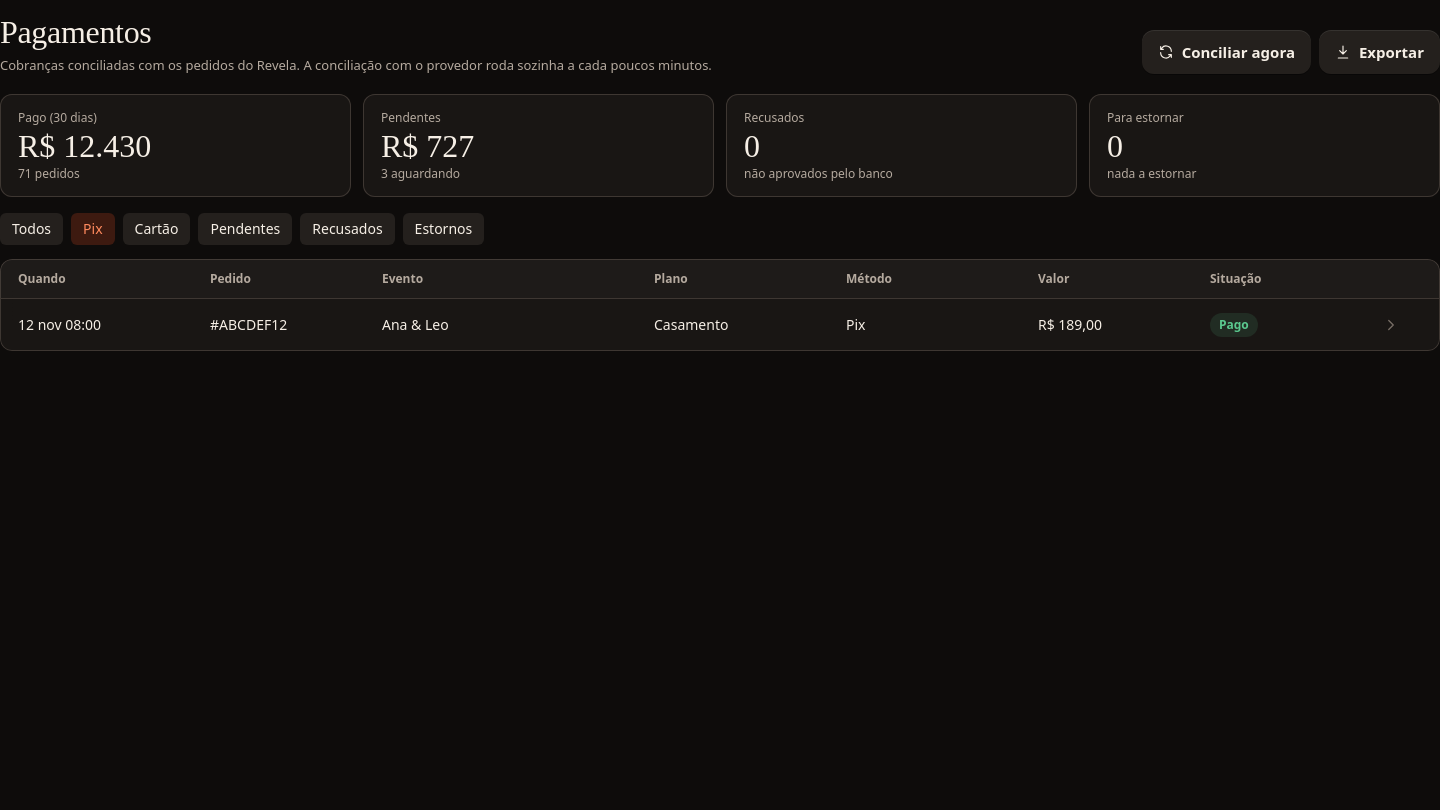
it: Pagamentos: papel e folhas › master: Conciliar agora sem aal2 pede o código do autenticador; Exportar abre a folha com o filtro da tela
The image size is (1440, 810).
Click the button "Conciliar agora": (1226, 52) [1142,30,1311,74]
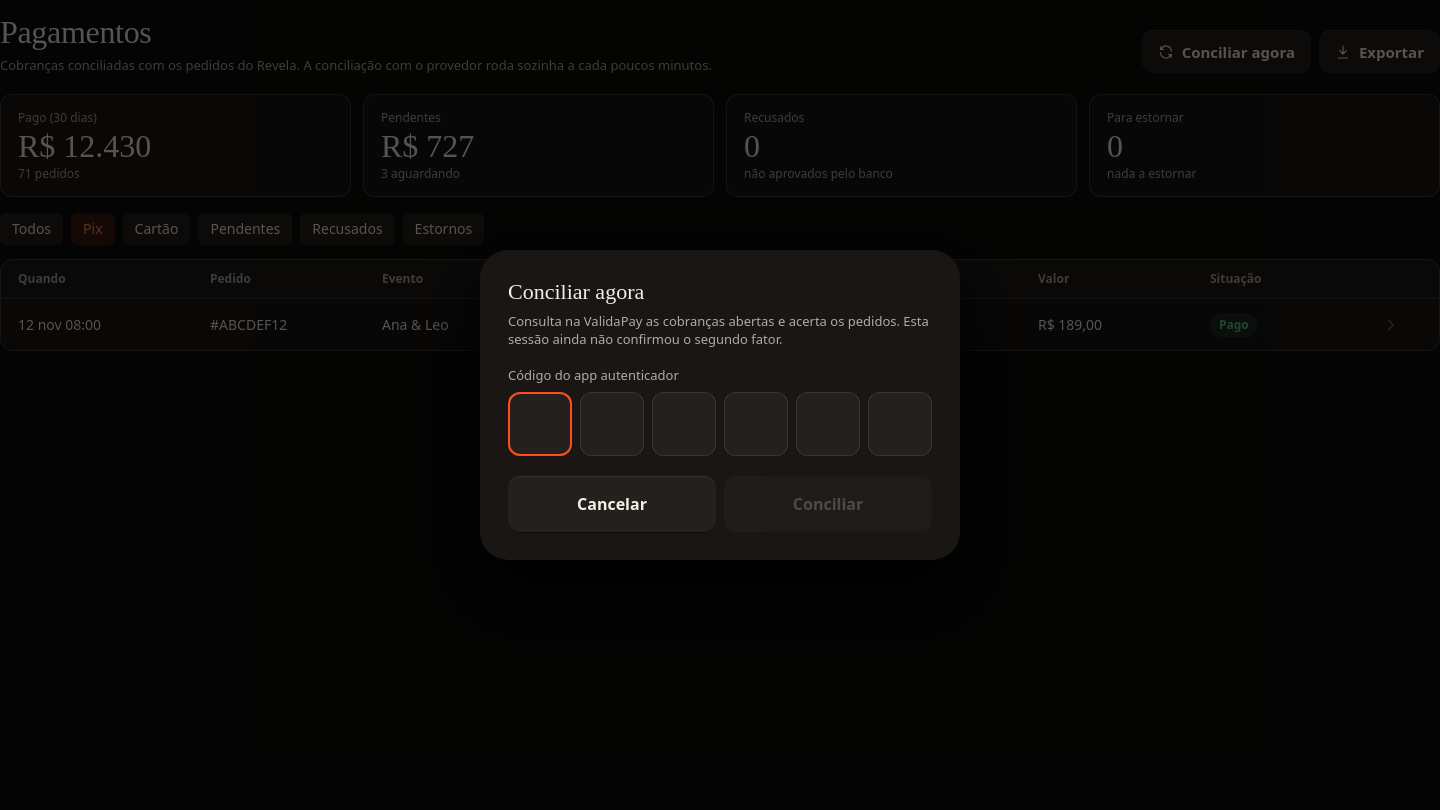
Result: the text "Código do app autenticador" is shown at [508,366,679,384]
Click the button "Cancelar": (612, 504) [508,476,716,532]
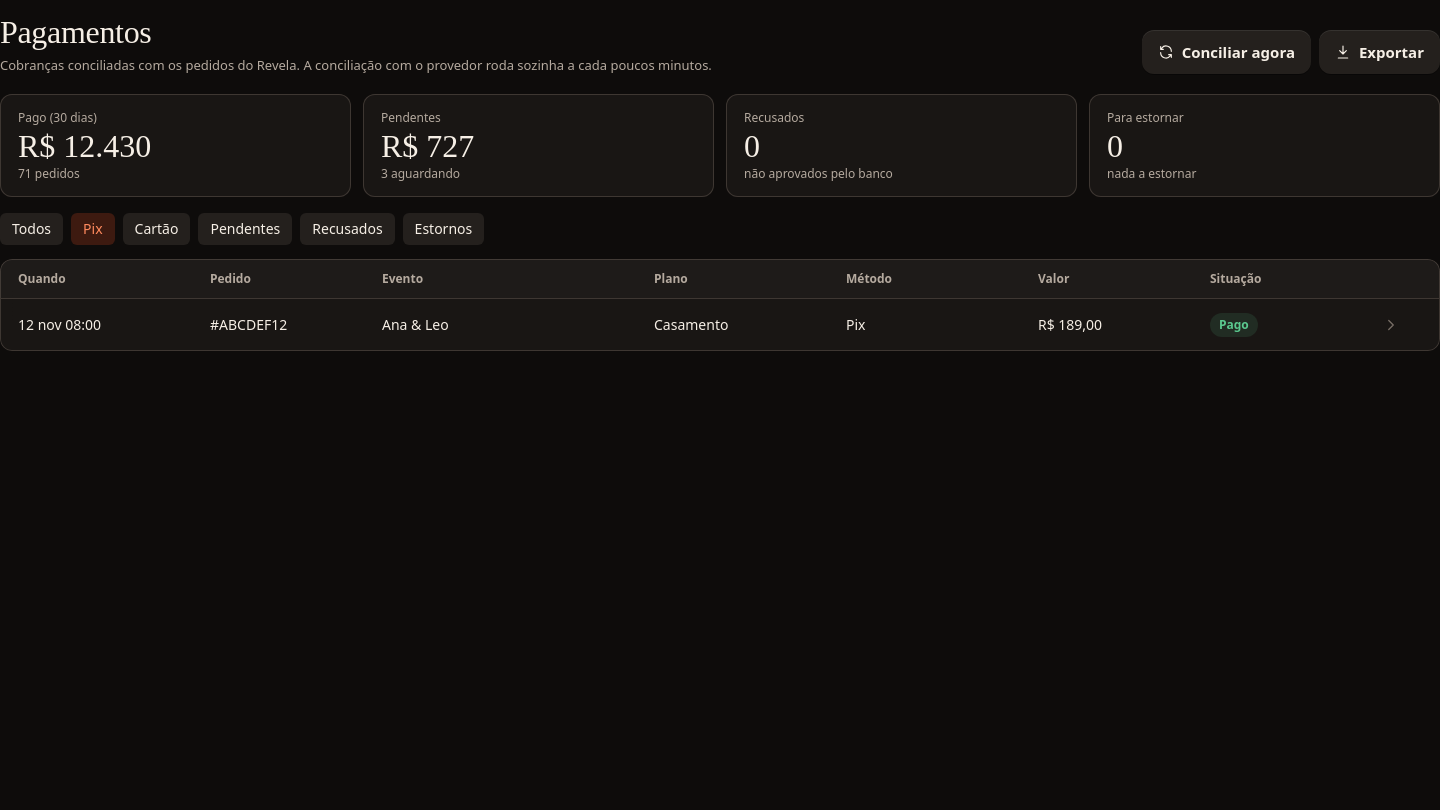
Click the button "Exportar": (1380, 52) [1319,30,1439,74]
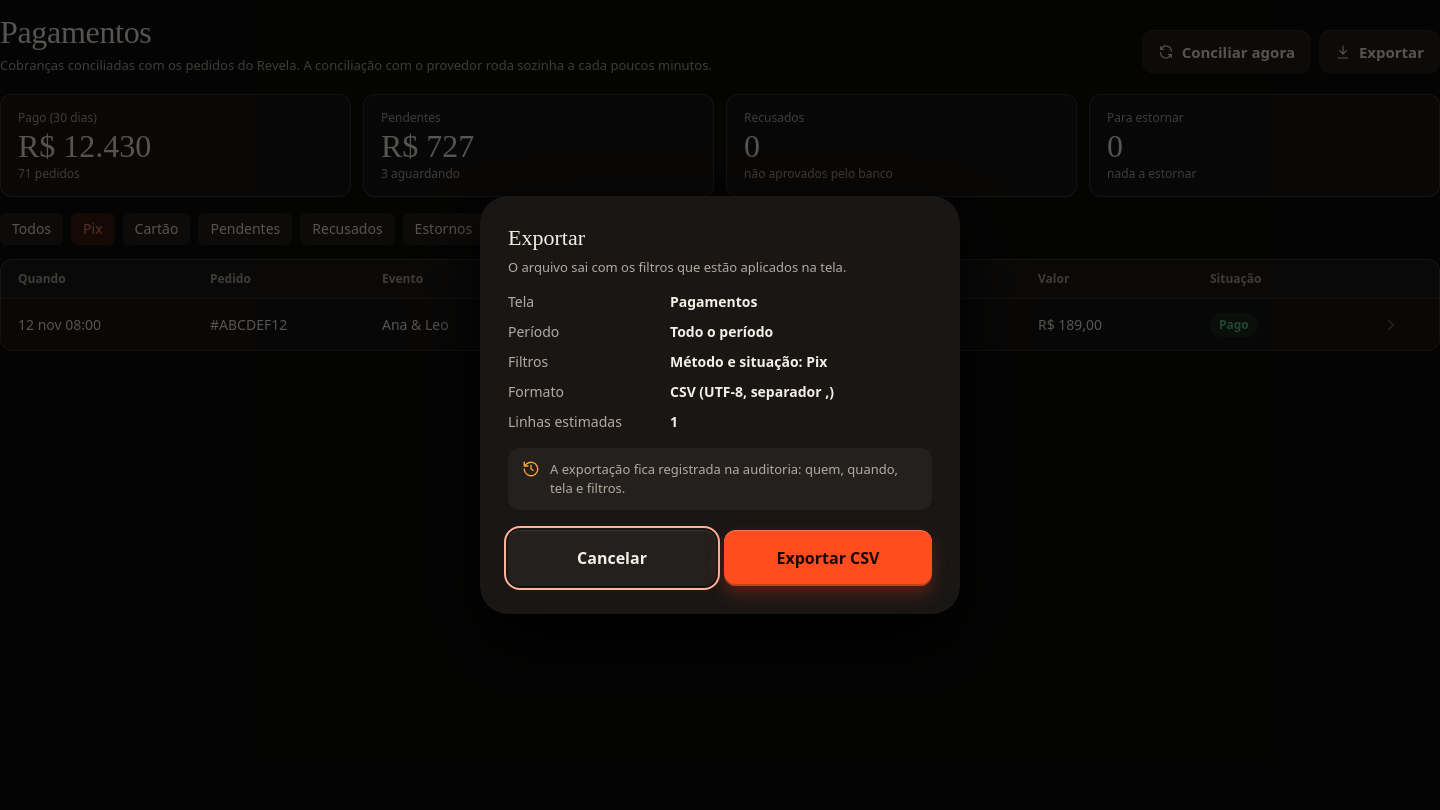
Result: the dialog "Exportar" shows "Pagamentos" at [670,292,758,311]
Result: the dialog "Exportar" shows "Pix" at [670,352,827,371]
